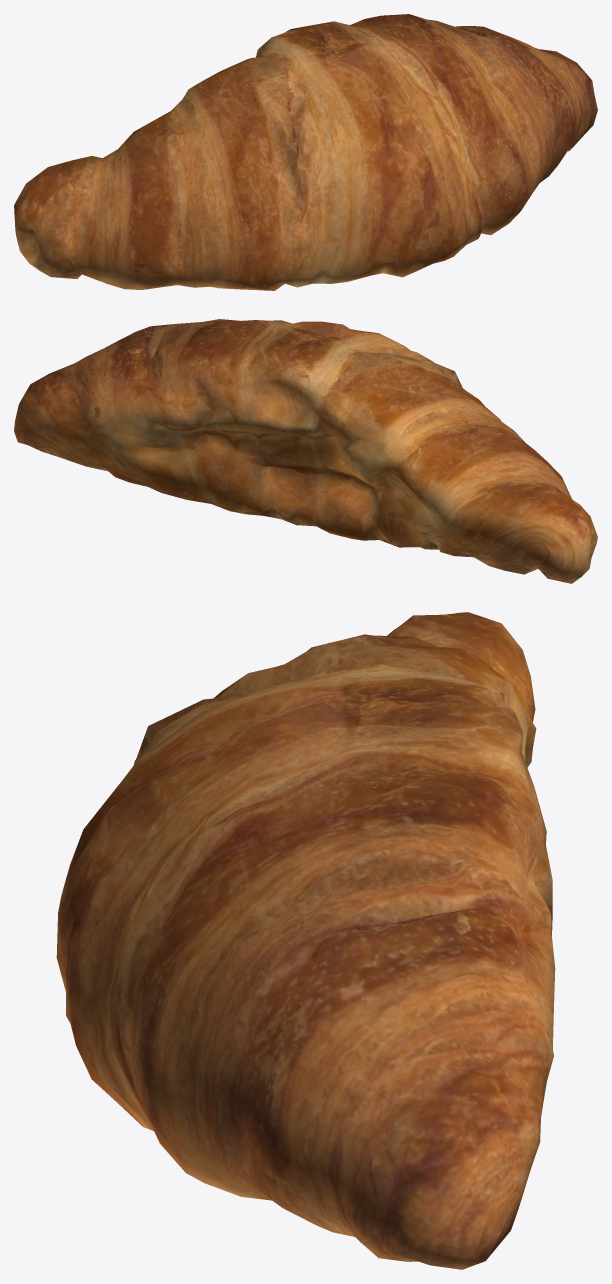
The model's file is croissant.glb.
3 views of the same model, one above another, from view 1: azimuth 30°, elevation 25°; view 2: azimuth 150°, elevation 25°; view 3: azimuth 270°, elevation 25° (orthographic). The views are drawn at different scales.
Visible parts, largest first — view 1: croissant; view 2: croissant; view 3: croissant.
Boxes of the visible parts, <box> form: croissant: <box>14,14,597,290</box>; croissant: <box>14,319,597,583</box>; croissant: <box>56,612,555,1269</box>.
Bounding box in the file's own units: 0.2 × 0.062 × 0.0755.
Materials: 1 (1 with a texture image).
